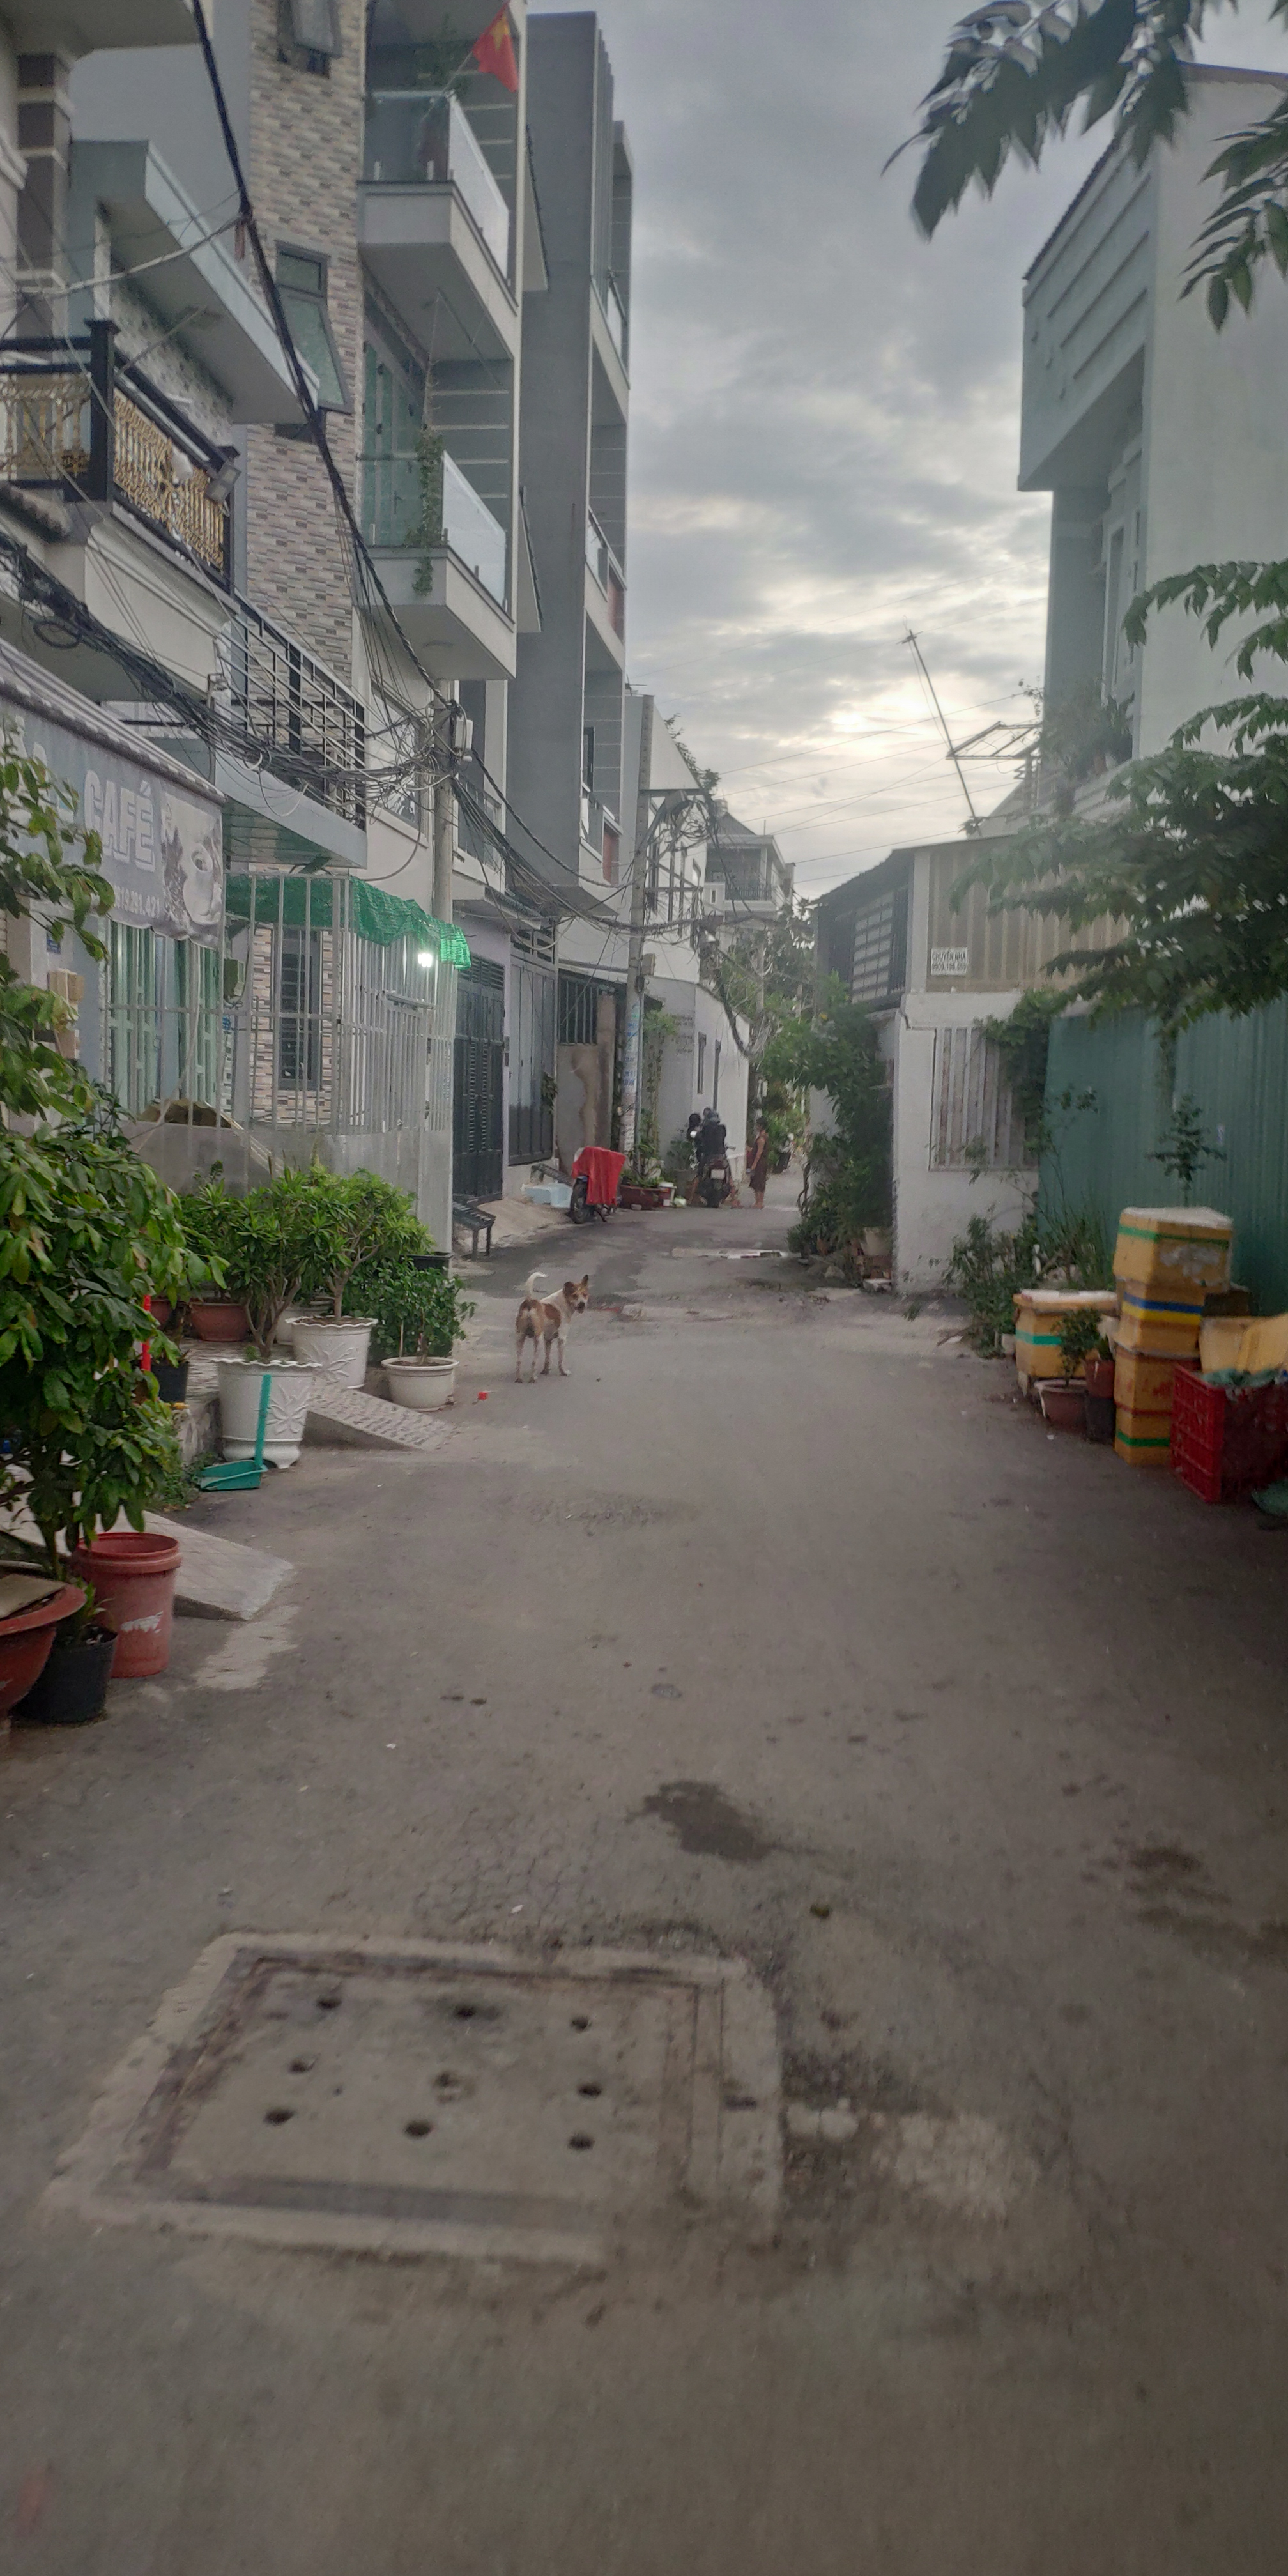hole: (775, 1994, 1071, 2293), (488, 1479, 700, 1539), (595, 1916, 751, 1948), (733, 1273, 785, 1295)
